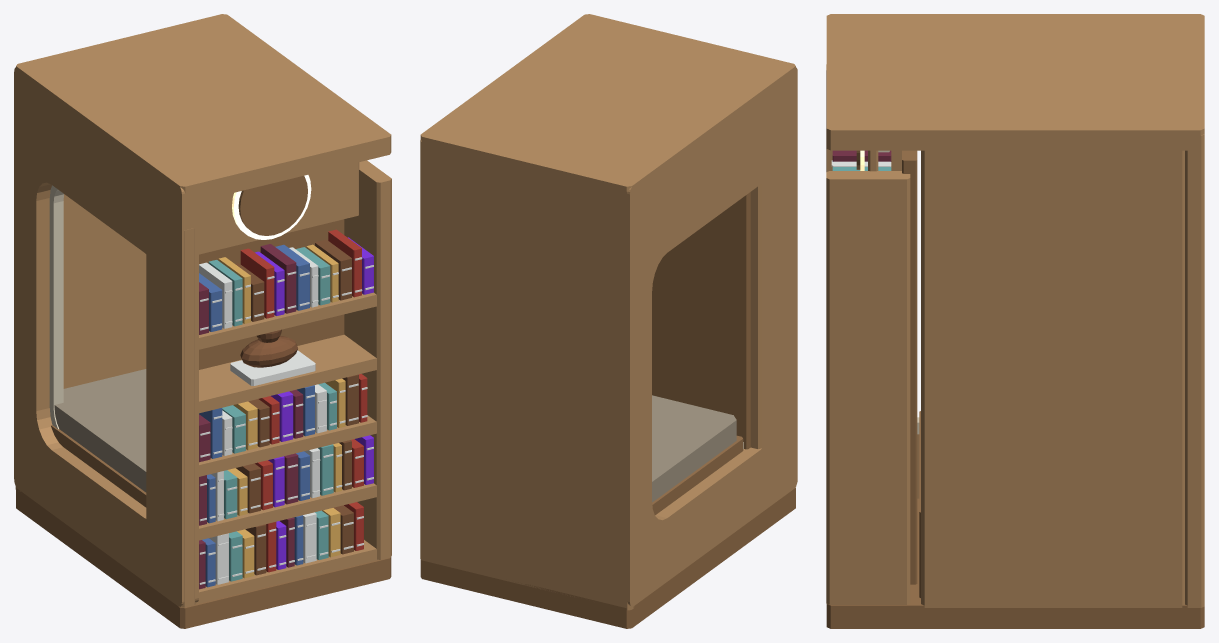
File: gh_bookshelf_pod_v01.glb
The picture shows the model from 3 angles, left to right: view 1: azimuth 30°, elevation 25°; view 2: azimuth 150°, elevation 25°; view 3: azimuth 270°, elevation 25°; orthographic projection. The views are drawn at different scales.
Visible parts, largest first — view 1: Bookshelf shell and genuine side niche palette, Bust halo and fittings palette, Bookshelf shell and genuine side niche fabric, Bust halo and fittings warm_light; view 2: Bookshelf shell and genuine side niche palette, Bookshelf shell and genuine side niche fabric; view 3: Bookshelf shell and genuine side niche palette.
Boxes of the visible parts, <box> form: Bookshelf shell and genuine side niche palette: <box>14,14,391,628</box>; Bust halo and fittings palette: <box>199,162,359,385</box>; Bookshelf shell and genuine side niche fabric: <box>49,185,146,492</box>; Bust halo and fittings warm_light: <box>232,175,311,239</box>; Bookshelf shell and genuine side niche palette: <box>420,14,797,628</box>; Bookshelf shell and genuine side niche fabric: <box>652,395,743,502</box>; Bookshelf shell and genuine side niche palette: <box>826,14,1204,628</box>.
Bounding box in the file's own units: 1.6 × 3.2 × 2.2.
Materials: 3 (3 with a texture image).
